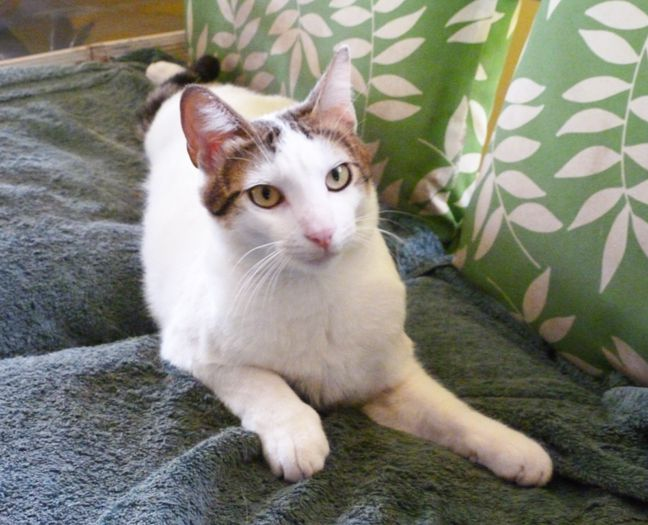cat: (90, 28, 560, 506)
